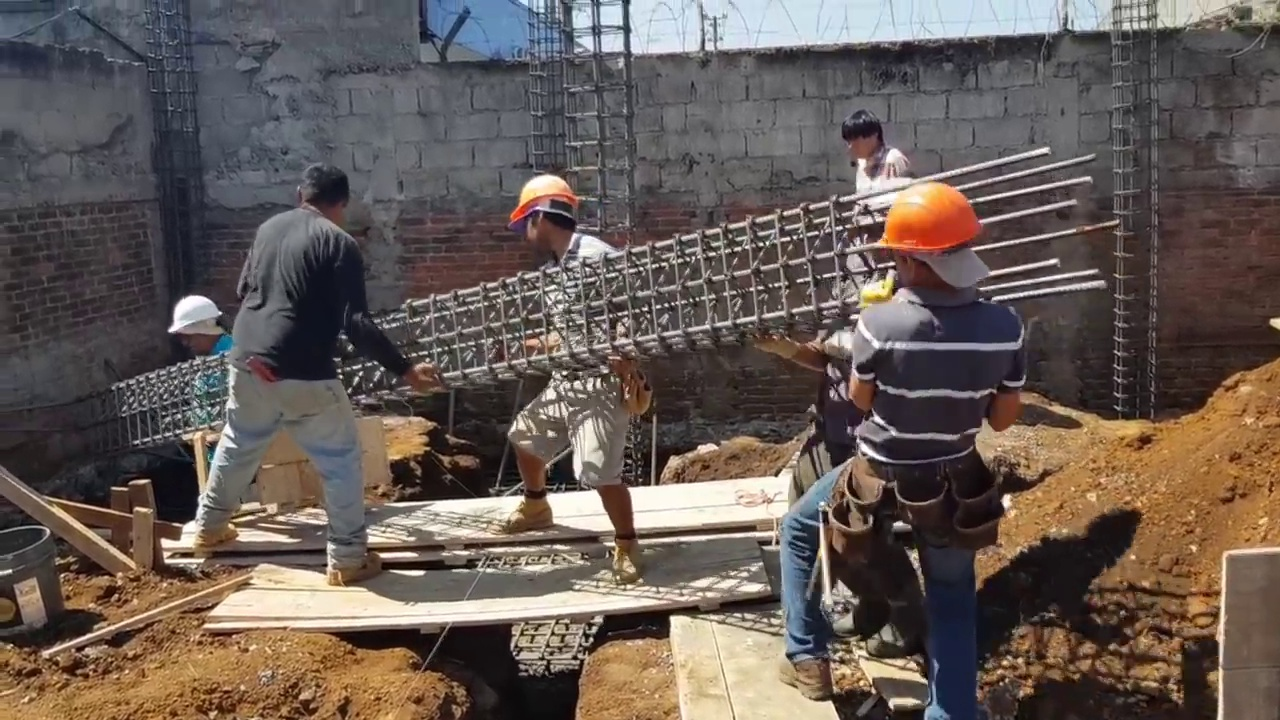helmet: (876, 178, 990, 255), (501, 176, 568, 229), (161, 297, 217, 339)
helmet-off: (294, 165, 354, 223), (842, 107, 892, 165)
helmet-on: (879, 181, 990, 314), (500, 160, 588, 258), (165, 288, 236, 358)
person: (780, 170, 1024, 718), (177, 164, 436, 603), (490, 179, 655, 575), (814, 109, 923, 304), (158, 286, 237, 477)
